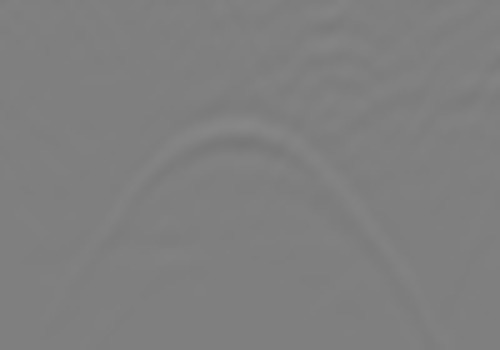hyperbola: (58, 117, 445, 333)
